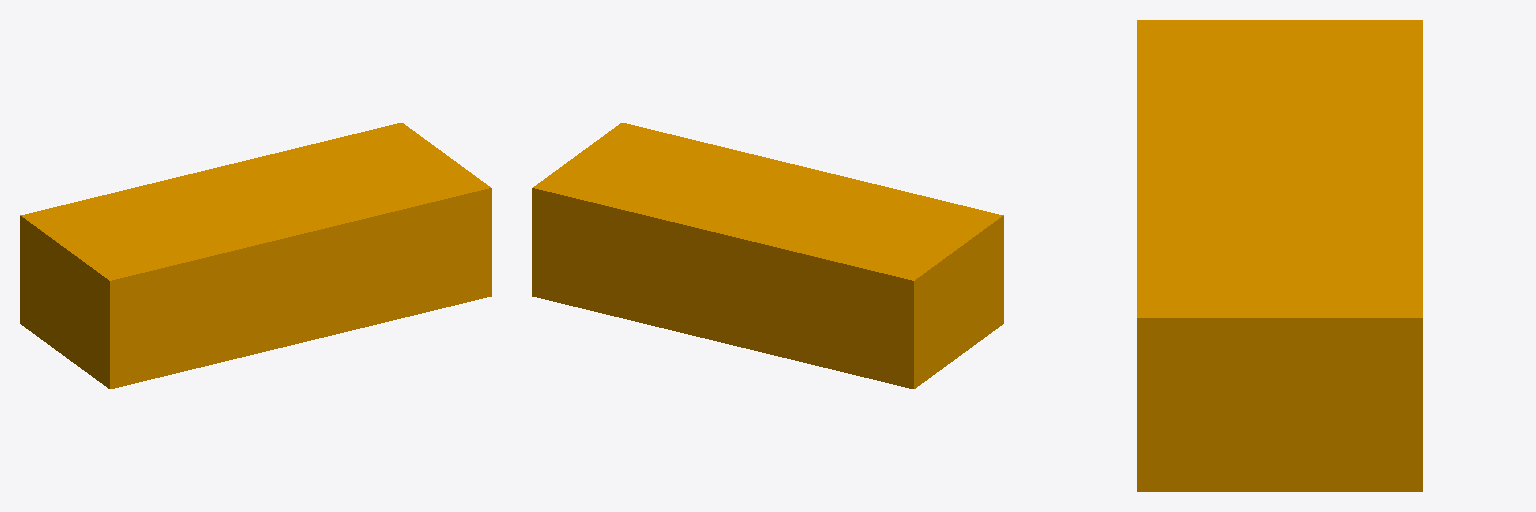
The robot description file, URDF, robot "2x2":
<?xml version='1.0' encoding='UTF-8'?>
<robot name="2x2">
  <link name="base_link">
    <inertial>
      <origin xyz="0.0 0.0 0.0" rpy="0.0 0.0 0.0"/>
      <mass value="0.01"/>
      <inertia ixx="0.1" ixy="0.0" ixz="0.0" iyy="0.1" iyz="0.0" izz="0.1"/>
    </inertial>
    <visual>
      <geometry>
        <box size="0.0441 0.0179 0.012 "/>
      </geometry>
      <material name=""/>
      <origin xyz="0.0 0.0 0.0" rpy="0.0 0.0 0.0"/>
    </visual>
    <collision>
      <geometry>
        <box size="0.0441 0.0179 0.012 "/>
      </geometry>
      <origin xyz="0.0 0.0 0.0" rpy="0.0 0.0 0.0"/>
    </collision>
  </link>
  <material name="">
    <color rgba="1. 1. 1. 1."/>
  </material>
  <contact>
    <lateral_friction value="1.0"/>
    <rolling_friction value="0.0"/>
    <contact_cfm value="0.0"/>
    <contact_erp value="1.0"/>
  </contact>
</robot>

--- What the picture shows (computed from the rendered views, not written in the file) ---
The picture shows the robot from 3 angles, left to right: view 1: azimuth 30°, elevation 25°; view 2: azimuth 150°, elevation 25°; view 3: azimuth 270°, elevation 25°; orthographic projection.
Robot: 2x2 — 1 links, 0 joints (none); root link base_link; default pose: every joint at zero.
Links seen in each view (by area): view 1: base_link; view 2: base_link; view 3: base_link.
Link boxes in pixels (x1,y1,x2,y2): base_link: (20, 123, 491, 388); base_link: (532, 123, 1003, 388); base_link: (1137, 20, 1422, 491).
Size in the robot's own frame: 0.0441 by 0.0179 by 0.012 metres.
Geometry: primitives only (box / cylinder / sphere), no mesh files.